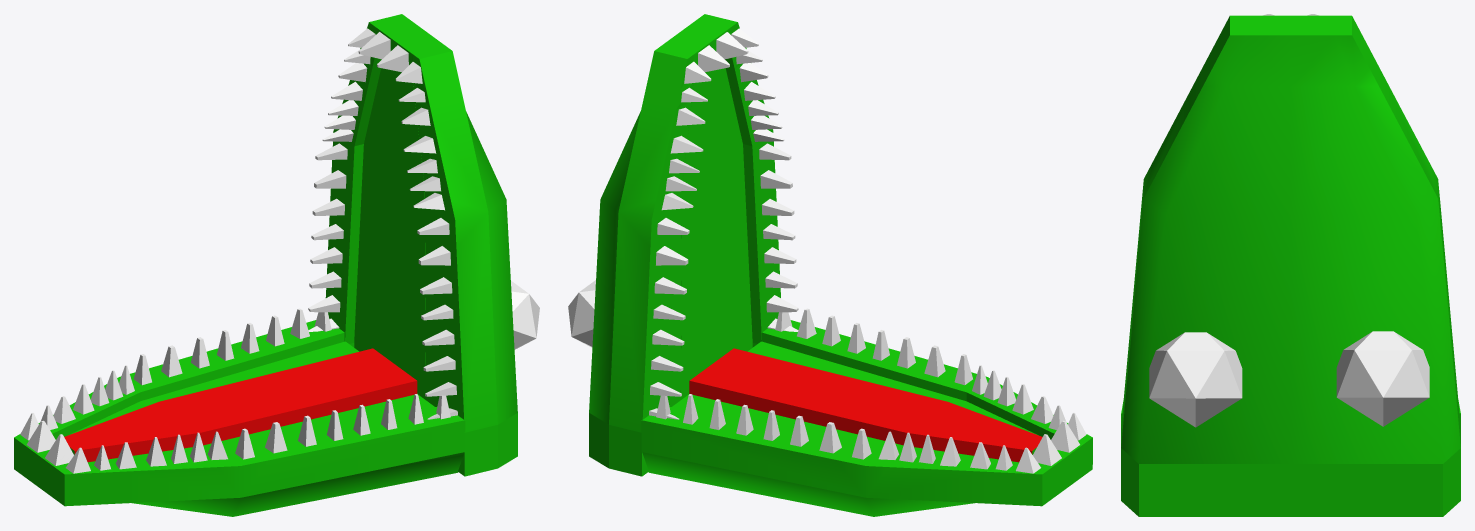
Rendered from croco_bon_pivot.FBX.
The picture shows the model from 3 angles, left to right: view 1: azimuth 30°, elevation 25°; view 2: azimuth 150°, elevation 25°; view 3: azimuth 270°, elevation 25°; orthographic projection. The views are drawn at different scales.
Visible parts, largest first — view 1: Box002; view 2: Box002; view 3: Box002.
Boxes of the visible parts, left/top/right/bottom form: Box002: left=14, top=14, right=539, bottom=516; Box002: left=568, top=14, right=1092, bottom=516; Box002: left=1121, top=14, right=1460, bottom=516.
Size of the model in its own units: 28.4 by 22.74 by 14.97.
